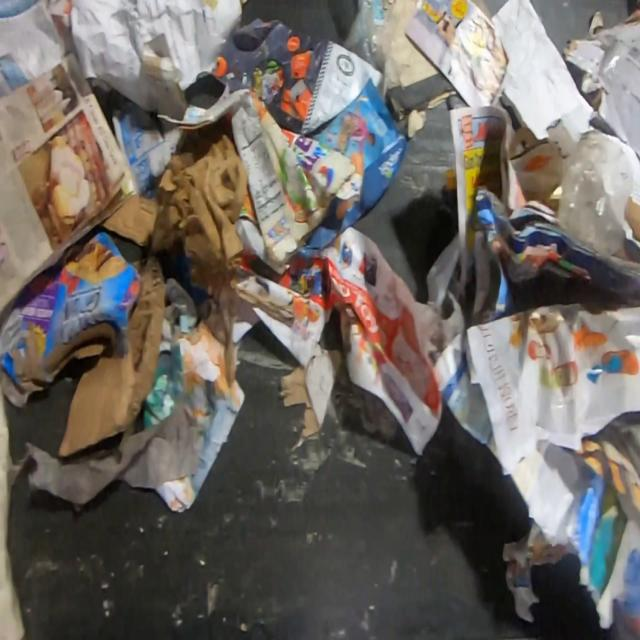cardboard: (0, 224, 166, 458), (101, 129, 248, 290)
soft_plastic: (556, 127, 640, 271), (340, 1, 404, 103), (598, 23, 640, 161)
